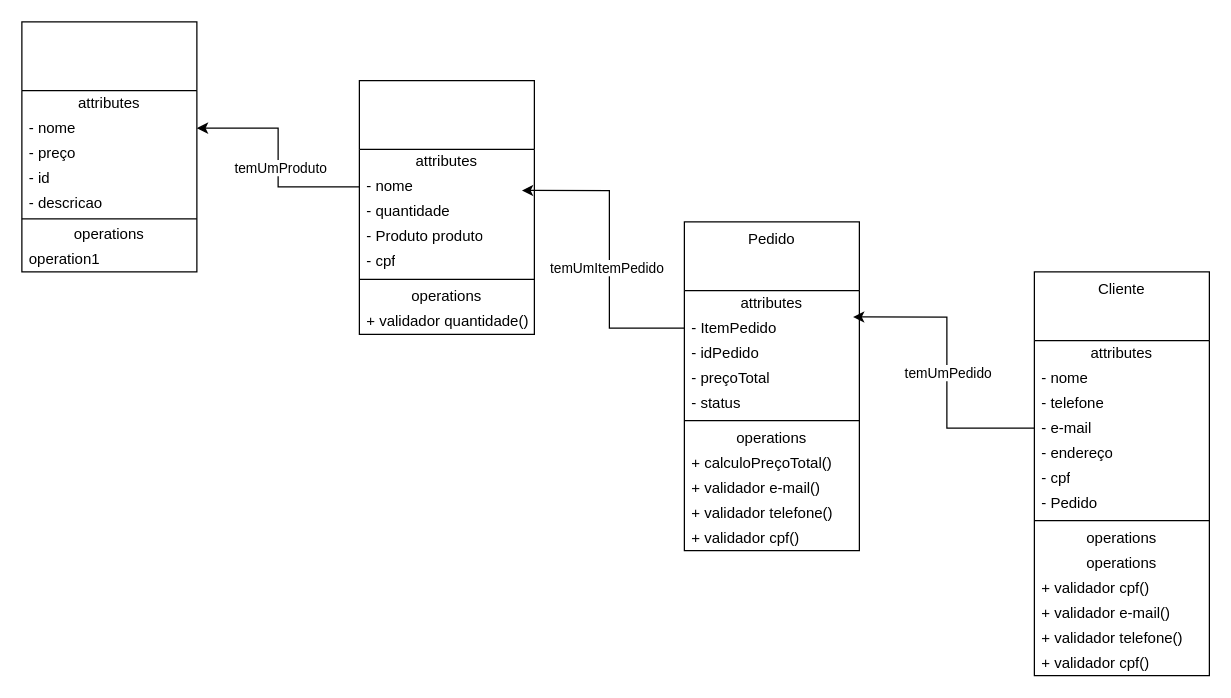
The diagram is 1231 pixels wide and 698 high, and some of its shapes have lost their labels. Here are the shapes that lost their labels. From the top down, the box of each, then its label:
(21, 21, 197, 272): Produto
(358, 79, 534, 334): ItemPedido
